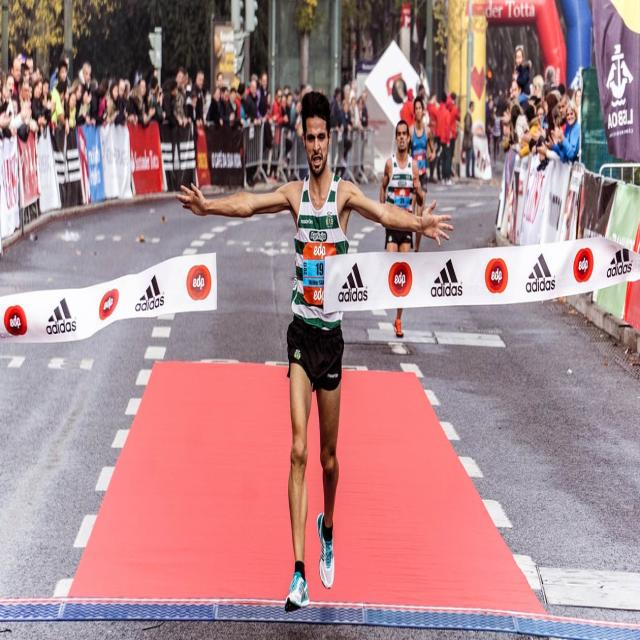running: (242, 93, 376, 615)
